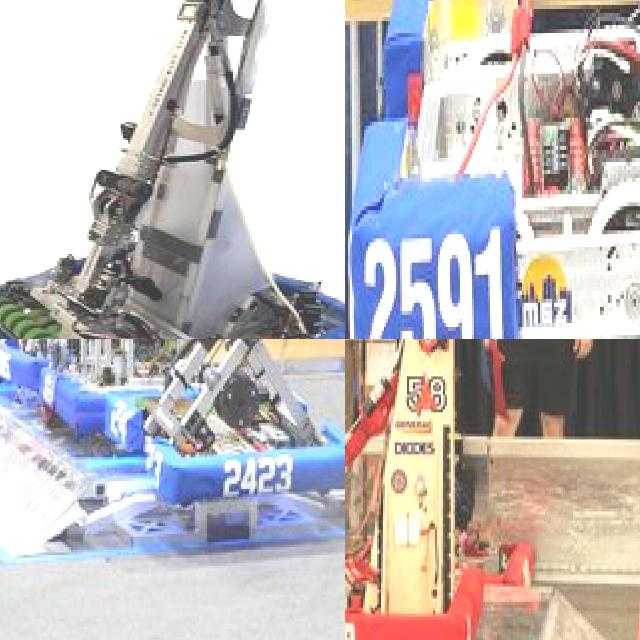FRC-Robots: (0, 0, 345, 339), (345, 0, 640, 339), (345, 339, 627, 640), (101, 339, 345, 514), (33, 339, 279, 453), (468, 461, 540, 597)
